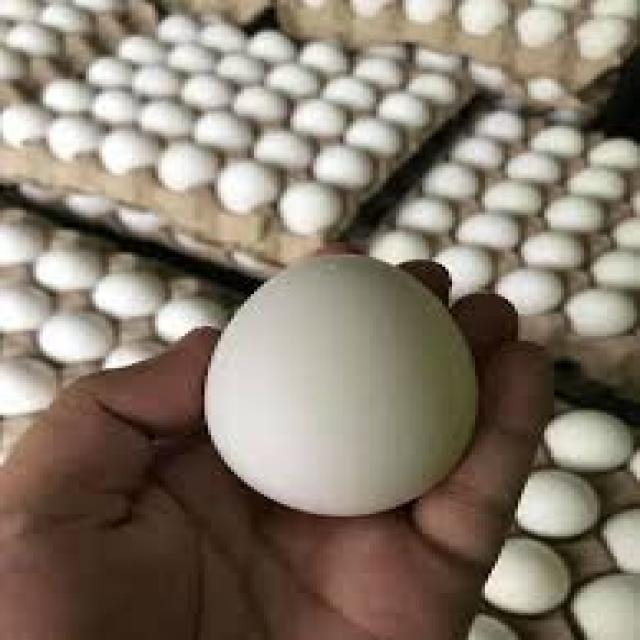White Egg: (201, 240, 497, 533)
